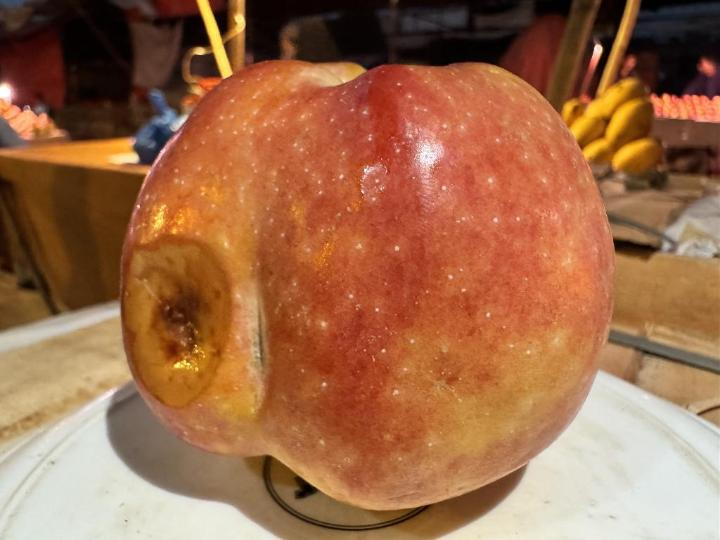apple: (120, 60, 613, 508)
rot_mold_decay: (124, 244, 230, 408)
surface_damage: (250, 296, 263, 371)
